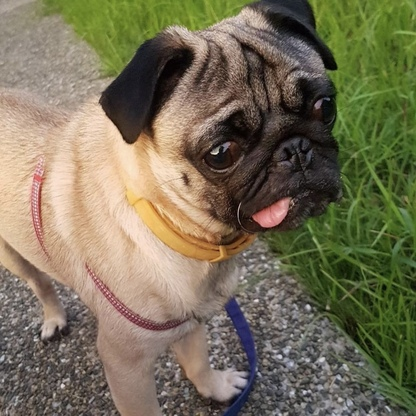Pug: (1, 1, 349, 416)
